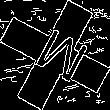M_SW: (23, 22, 87, 88)
